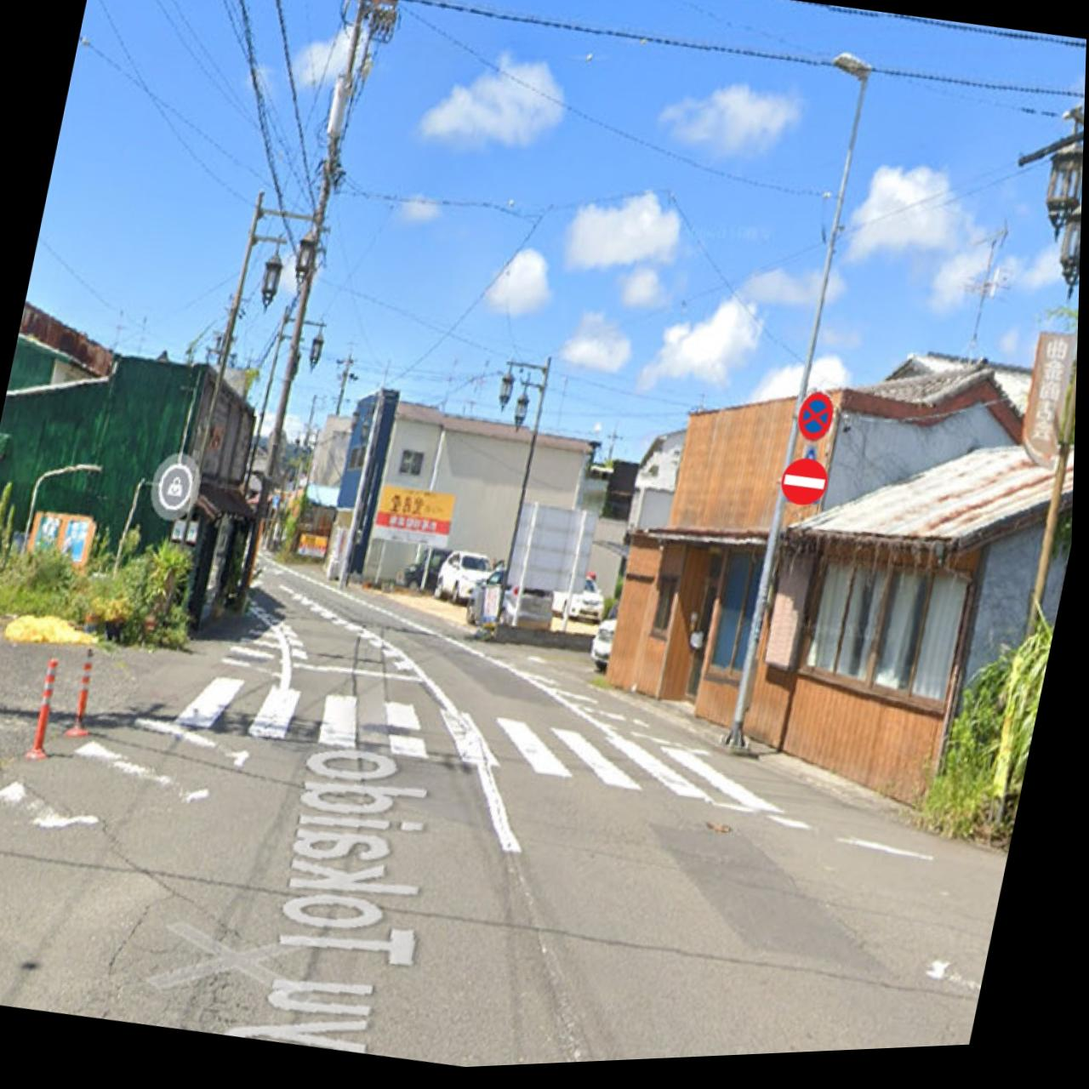barrier: (774, 453, 836, 516)
stop_sign: (788, 382, 840, 450)
